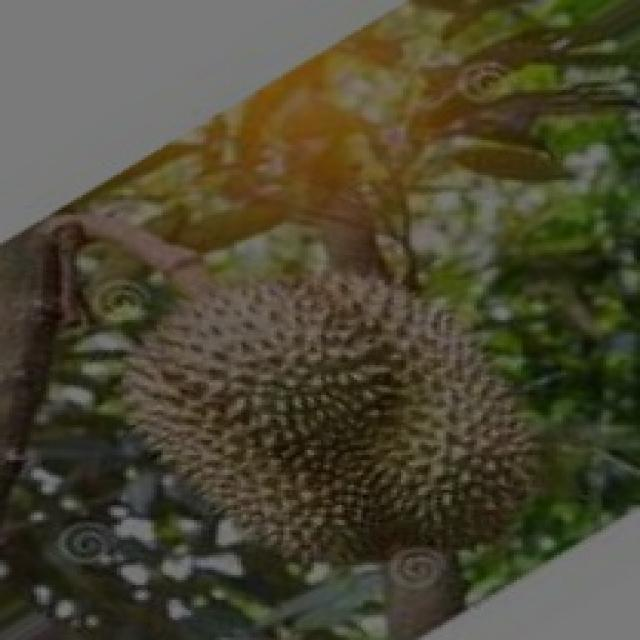fruit: (142, 230, 569, 618)
